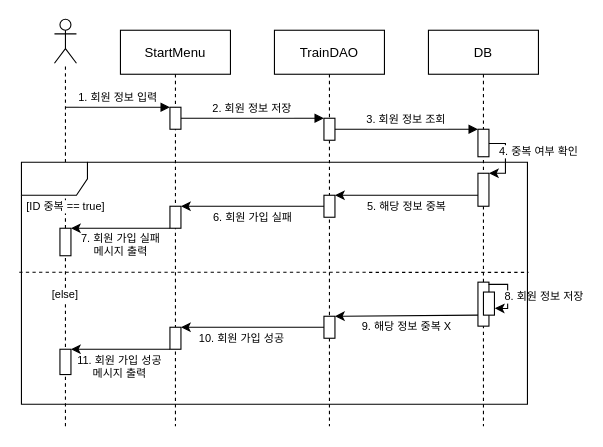
Image size: 603x447. Some labels were removed from this diagram. The shapes that lost their labels are listed below. From the top down, each one's centre as x and y in pixels, then its label:
At (x=64, y=40): "Actor".
At (x=273, y=282): "alt".
